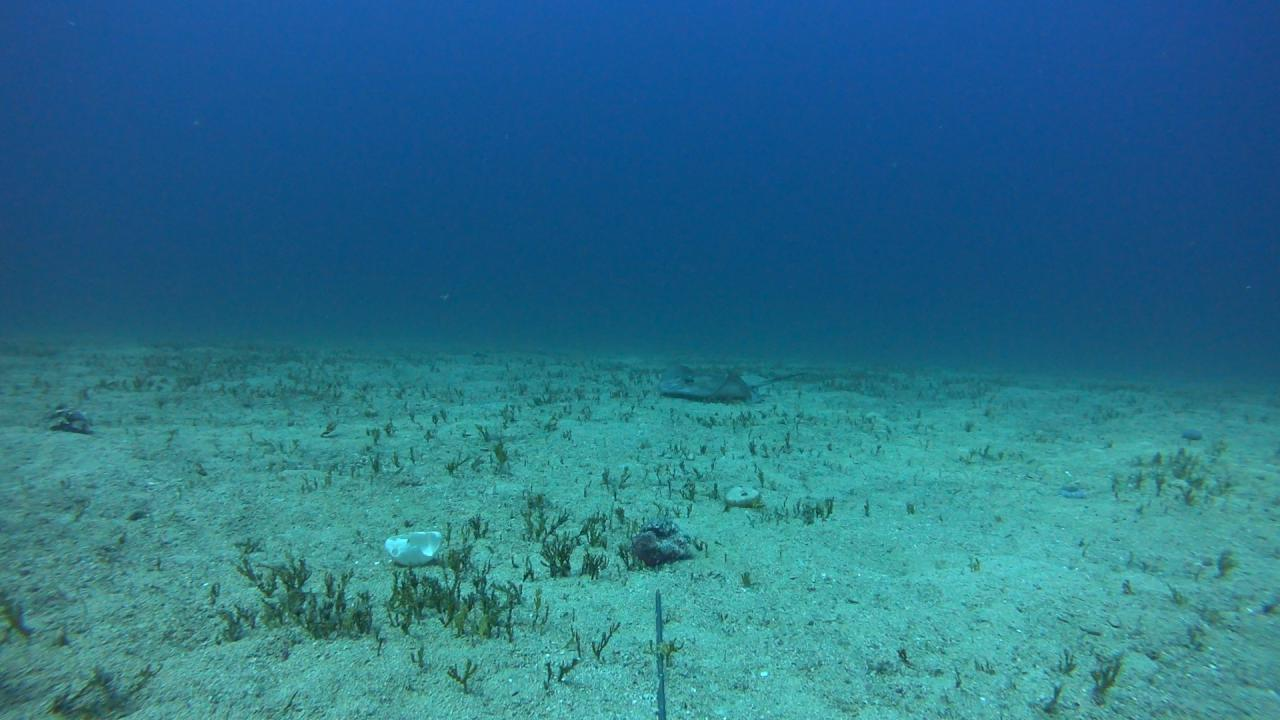dasyatis: (656, 357, 810, 405)
